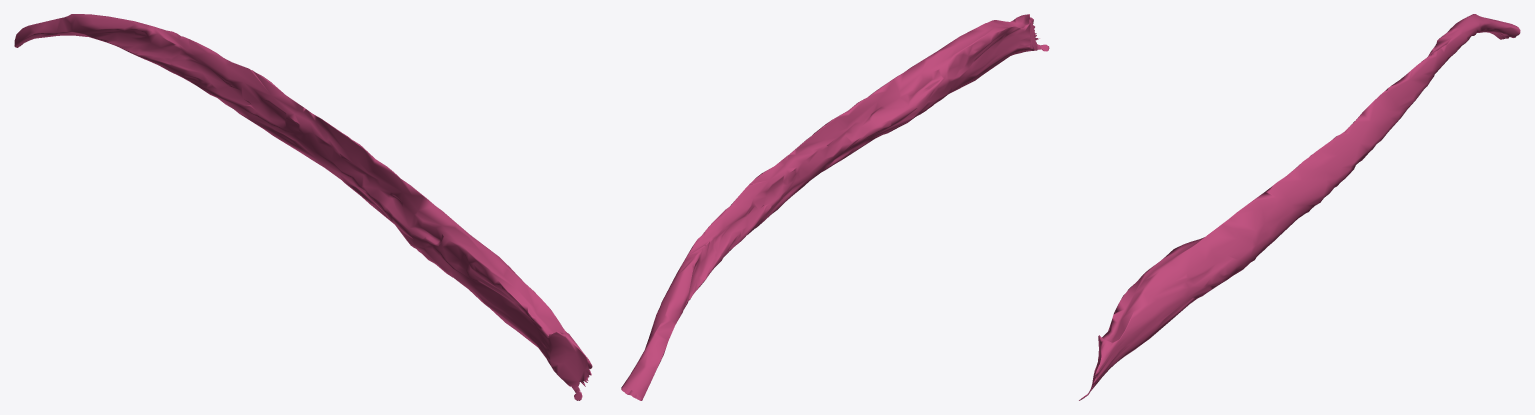
The picture shows the model from 3 angles, left to right: view 1: azimuth 30°, elevation 25°; view 2: azimuth 150°, elevation 25°; view 3: azimuth 330°, elevation 25°; orthographic projection. The views are drawn at different scales.
Visible parts, largest first — view 1: 左侧趾长伸肌; view 2: 左侧趾长伸肌; view 3: 左侧趾长伸肌.
Part boxes in pixels (x1,y1,x2,y2): 左侧趾长伸肌: [14, 14, 592, 400]; 左侧趾长伸肌: [621, 14, 1049, 400]; 左侧趾长伸肌: [1079, 14, 1520, 400].
Bounding box in the file's own units: 0.0477 × 0.0487 × 0.4832.
